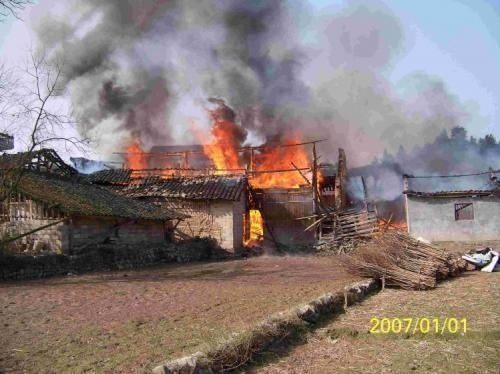fire: (202, 114, 327, 187), (121, 138, 197, 178), (242, 204, 265, 245)
